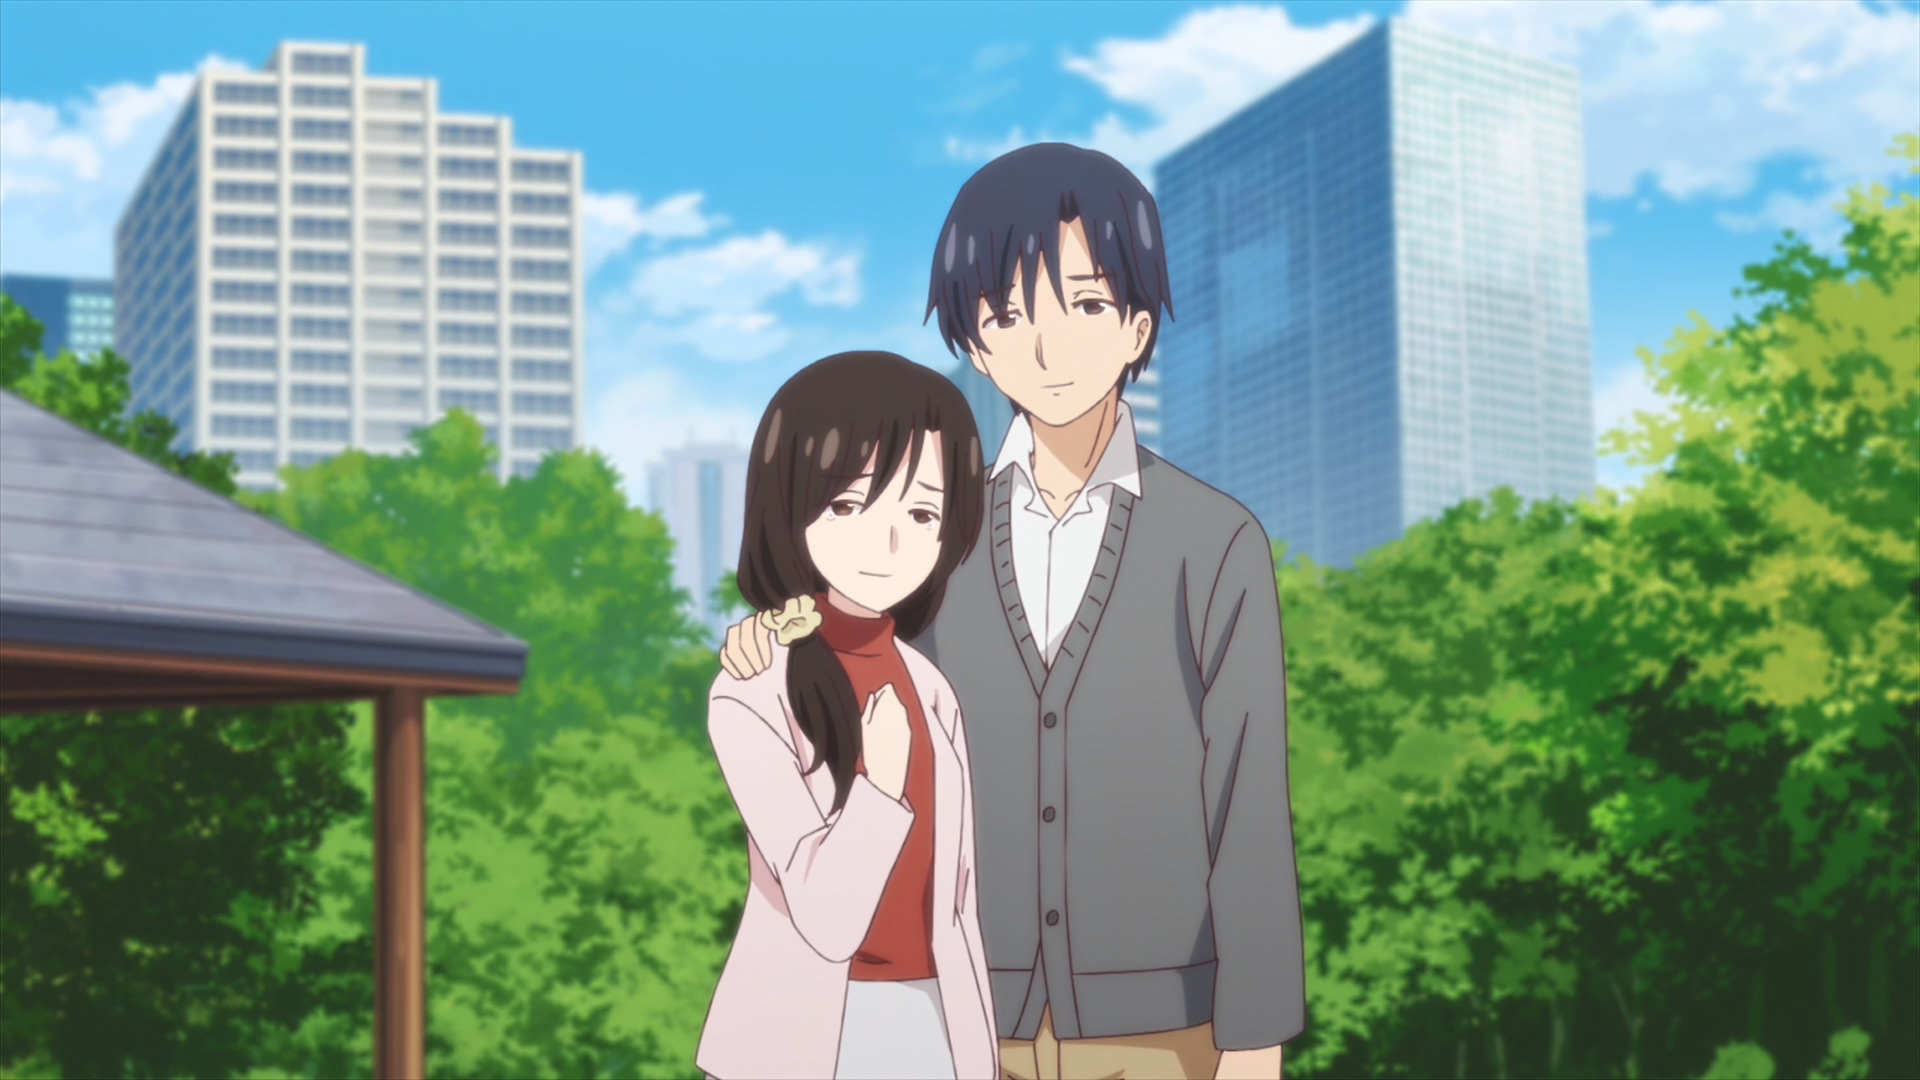其他: (922, 142, 1305, 1080), (696, 349, 1002, 1080)
